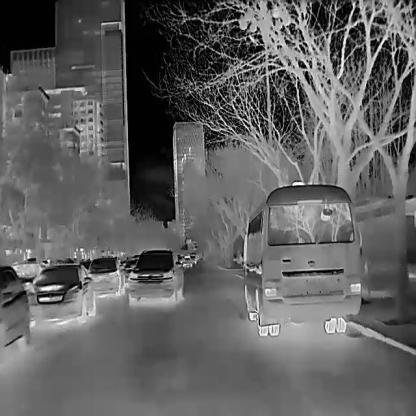car: (239, 180, 361, 336), (30, 262, 94, 324), (125, 249, 183, 305), (0, 264, 32, 354), (88, 255, 123, 295), (181, 255, 191, 267)
